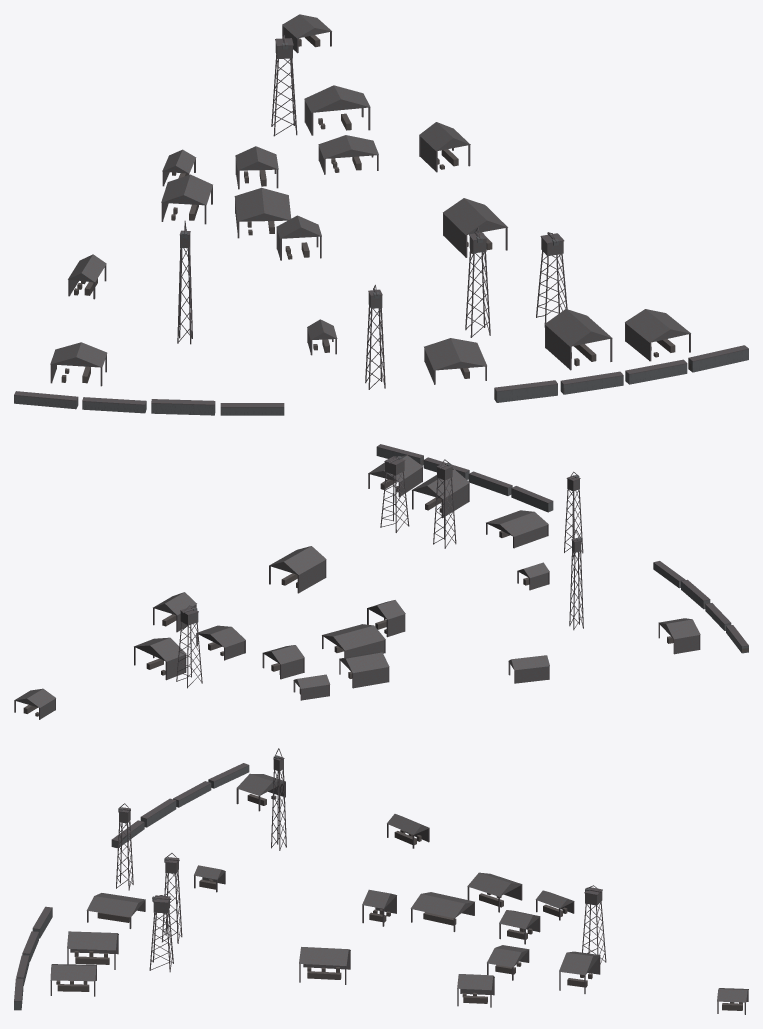
The model's file is SM_City_MarsaAlFajr_5.fbx.
3 views of the same model, one above another, from view 1: azimuth 30°, elevation 25°; view 2: azimuth 150°, elevation 25°; view 3: azimuth 270°, elevation 25° (orthographic). The views are drawn at different scales.
Parts seen in each view (by area): view 1: SM_City_MarsaAlFajr_5; view 2: SM_City_MarsaAlFajr_5; view 3: SM_City_MarsaAlFajr_5.
Part boxes in pixels (bbox=[...]): SM_City_MarsaAlFajr_5: bbox=[14, 14, 748, 415]; SM_City_MarsaAlFajr_5: bbox=[14, 444, 748, 719]; SM_City_MarsaAlFajr_5: bbox=[14, 748, 748, 1014].
Size of the model in its own units: 9114 by 1727 by 11559.
Materials: 4 (4 with a texture image).
